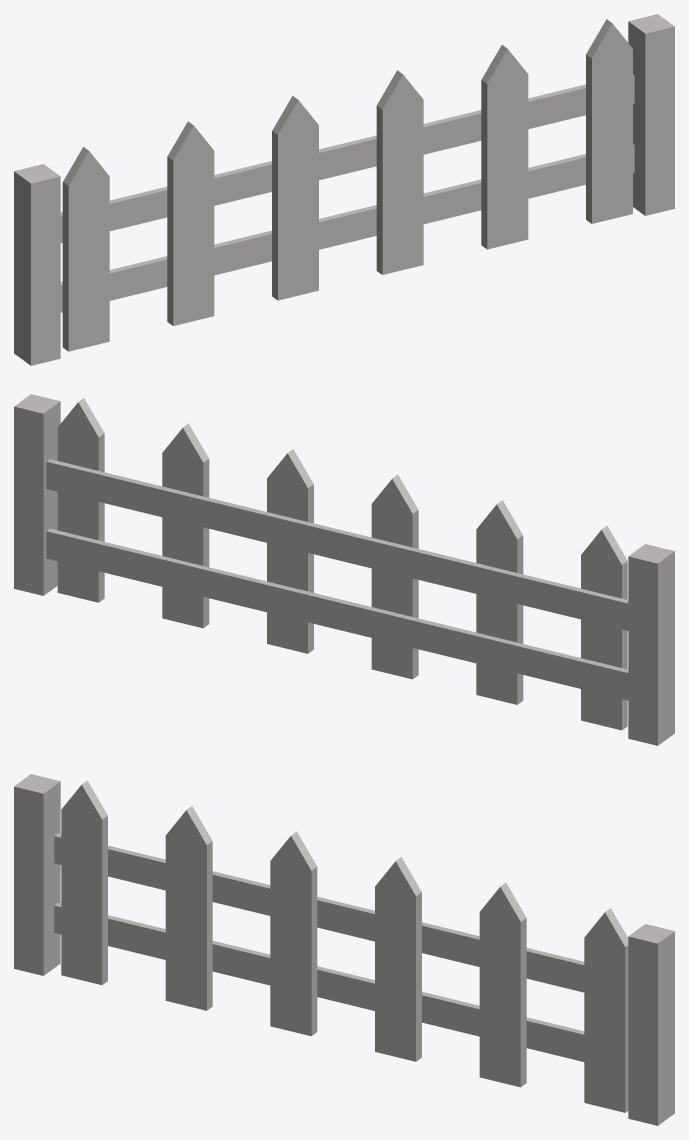
File: Fence Tile_13.fbx
3 renders of one model, top to bottom at view 1: azimuth 30°, elevation 25°; view 2: azimuth 150°, elevation 25°; view 3: azimuth 330°, elevation 25°, orthographic.
Parts seen in each view (by area): view 1: Fence Tile_13; view 2: Fence Tile_13; view 3: Fence Tile_13.
Boxes of the visible parts, left/top/right/bottom form: Fence Tile_13: left=14, top=14, right=674, bottom=365; Fence Tile_13: left=14, top=394, right=674, bottom=745; Fence Tile_13: left=14, top=774, right=674, bottom=1125.
Size of the model in its own units: 421 by 123 by 19.36.
